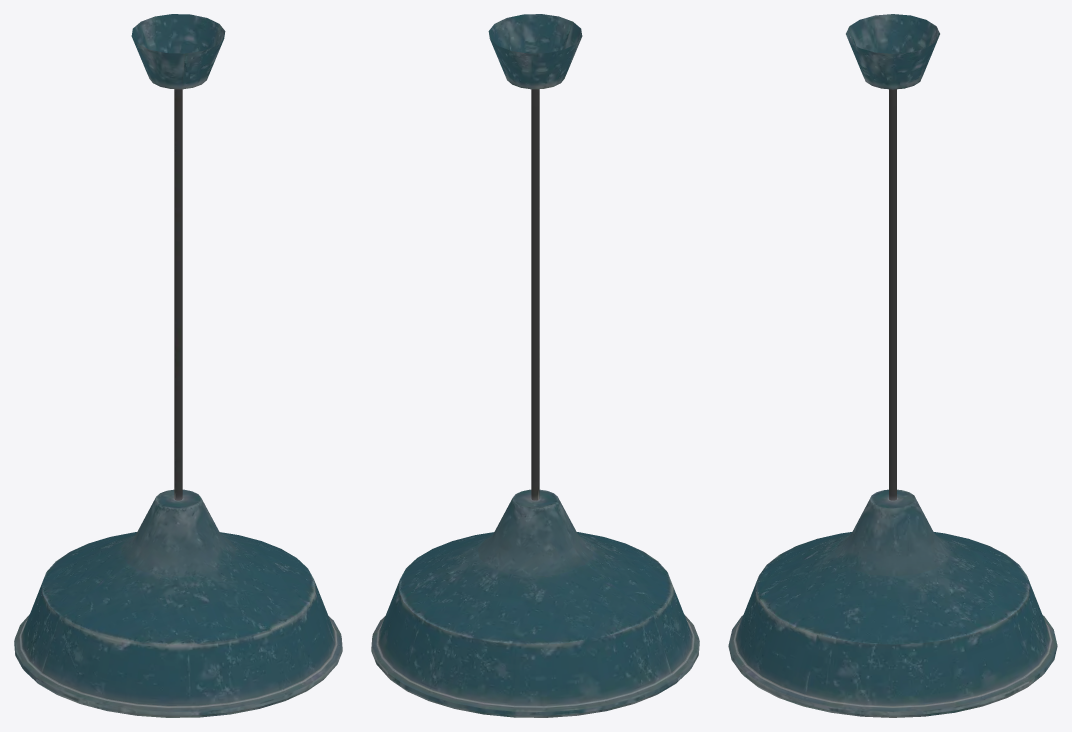
The model's file is lamp-opt.glb.
3 views of the same model, side by side, from view 1: azimuth 30°, elevation 25°; view 2: azimuth 150°, elevation 25°; view 3: azimuth 270°, elevation 25° (orthographic).
Visible parts, largest first — view 1: Lamp_01a.001__0; view 2: Lamp_01a.001__0; view 3: Lamp_01a.001__0.
Boxes of the visible parts, bbox=[...] form: Lamp_01a.001__0: bbox=[14, 14, 342, 717]; Lamp_01a.001__0: bbox=[371, 14, 699, 717]; Lamp_01a.001__0: bbox=[728, 14, 1057, 717].
Size of the model in its own units: 0.3923 by 0.8362 by 0.3923.
1 material, 1 textured.
